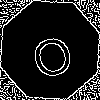O: (25, 25, 77, 81)
